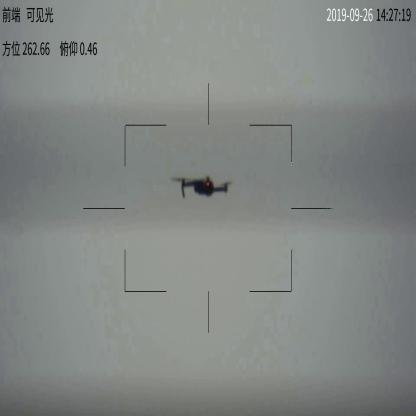uav: (169, 174, 236, 200)
